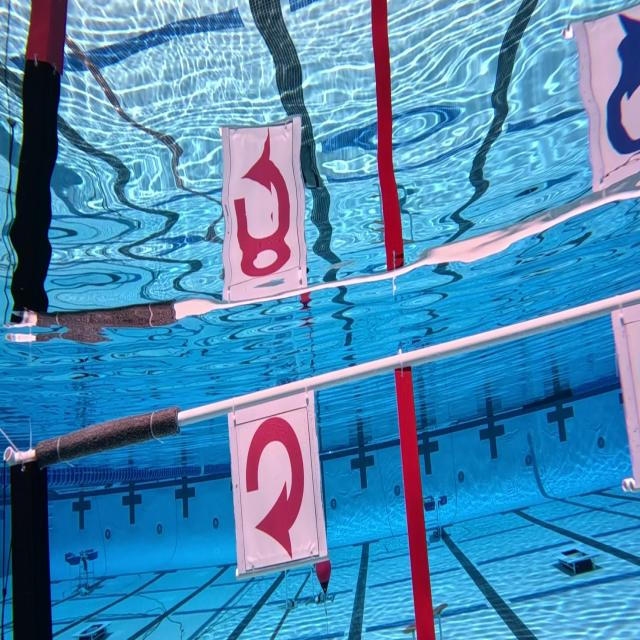red_side: (228, 386, 332, 564)
